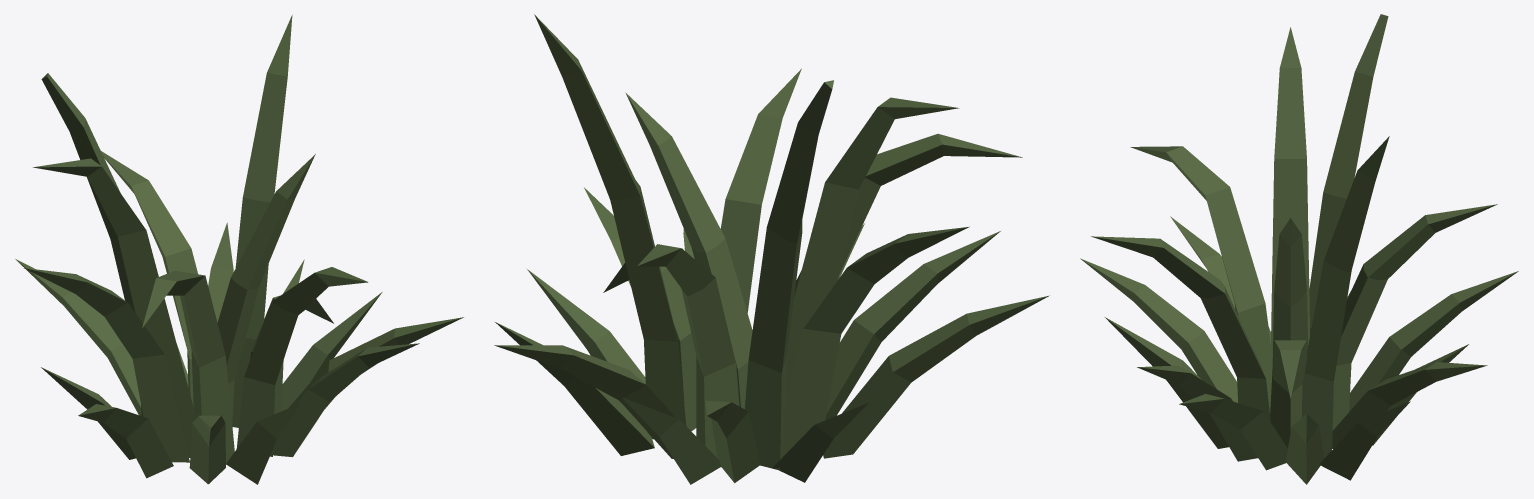
The model's file is SM_Envr_Nature_Plant_Grass_04.fbx.
3 views of the same model, side by side, from view 1: azimuth 30°, elevation 25°; view 2: azimuth 150°, elevation 25°; view 3: azimuth 270°, elevation 25° (orthographic). The views are drawn at different scales.
Visible parts, largest first — view 1: SM_Envr_Nature_Plant_Grass_04; view 2: SM_Envr_Nature_Plant_Grass_04; view 3: SM_Envr_Nature_Plant_Grass_04.
Part boxes in pixels (x1,y1,x2,y2): SM_Envr_Nature_Plant_Grass_04: (15,15,463,484); SM_Envr_Nature_Plant_Grass_04: (494,14,1049,484); SM_Envr_Nature_Plant_Grass_04: (1080,14,1518,484).
Size of the model in its own units: 101 by 93.38 by 99.75.
